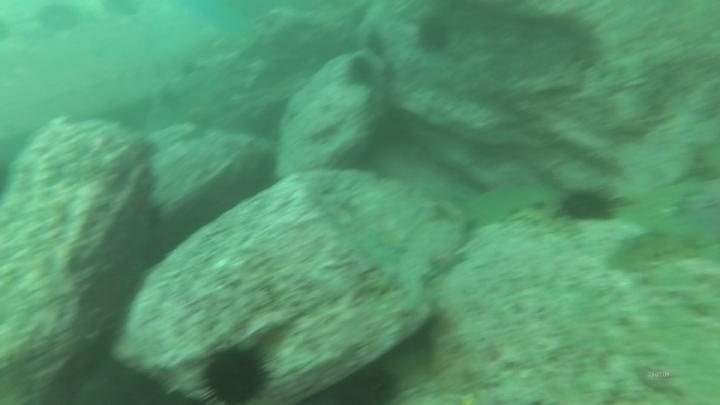echinus: (195, 340, 275, 405), (555, 185, 620, 226), (414, 15, 454, 55), (343, 53, 379, 90), (363, 29, 390, 59)
holothurian: (607, 224, 713, 275)
starfish: (423, 245, 470, 282), (364, 223, 413, 258)
